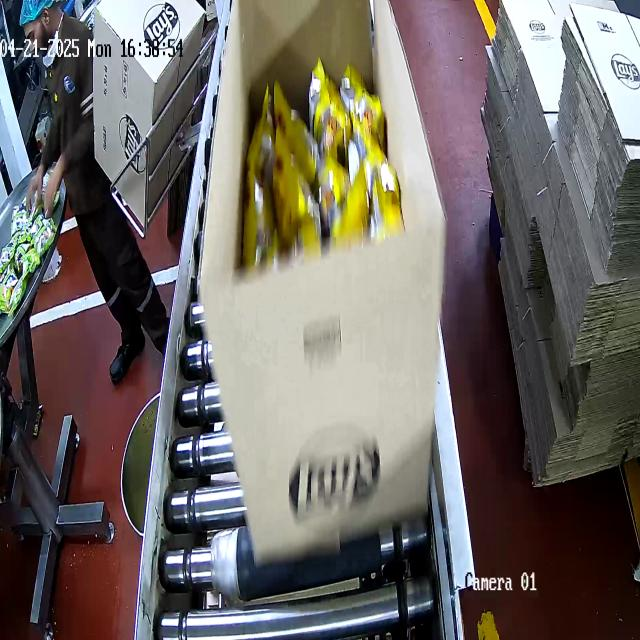SALTED: (242, 61, 392, 272)
